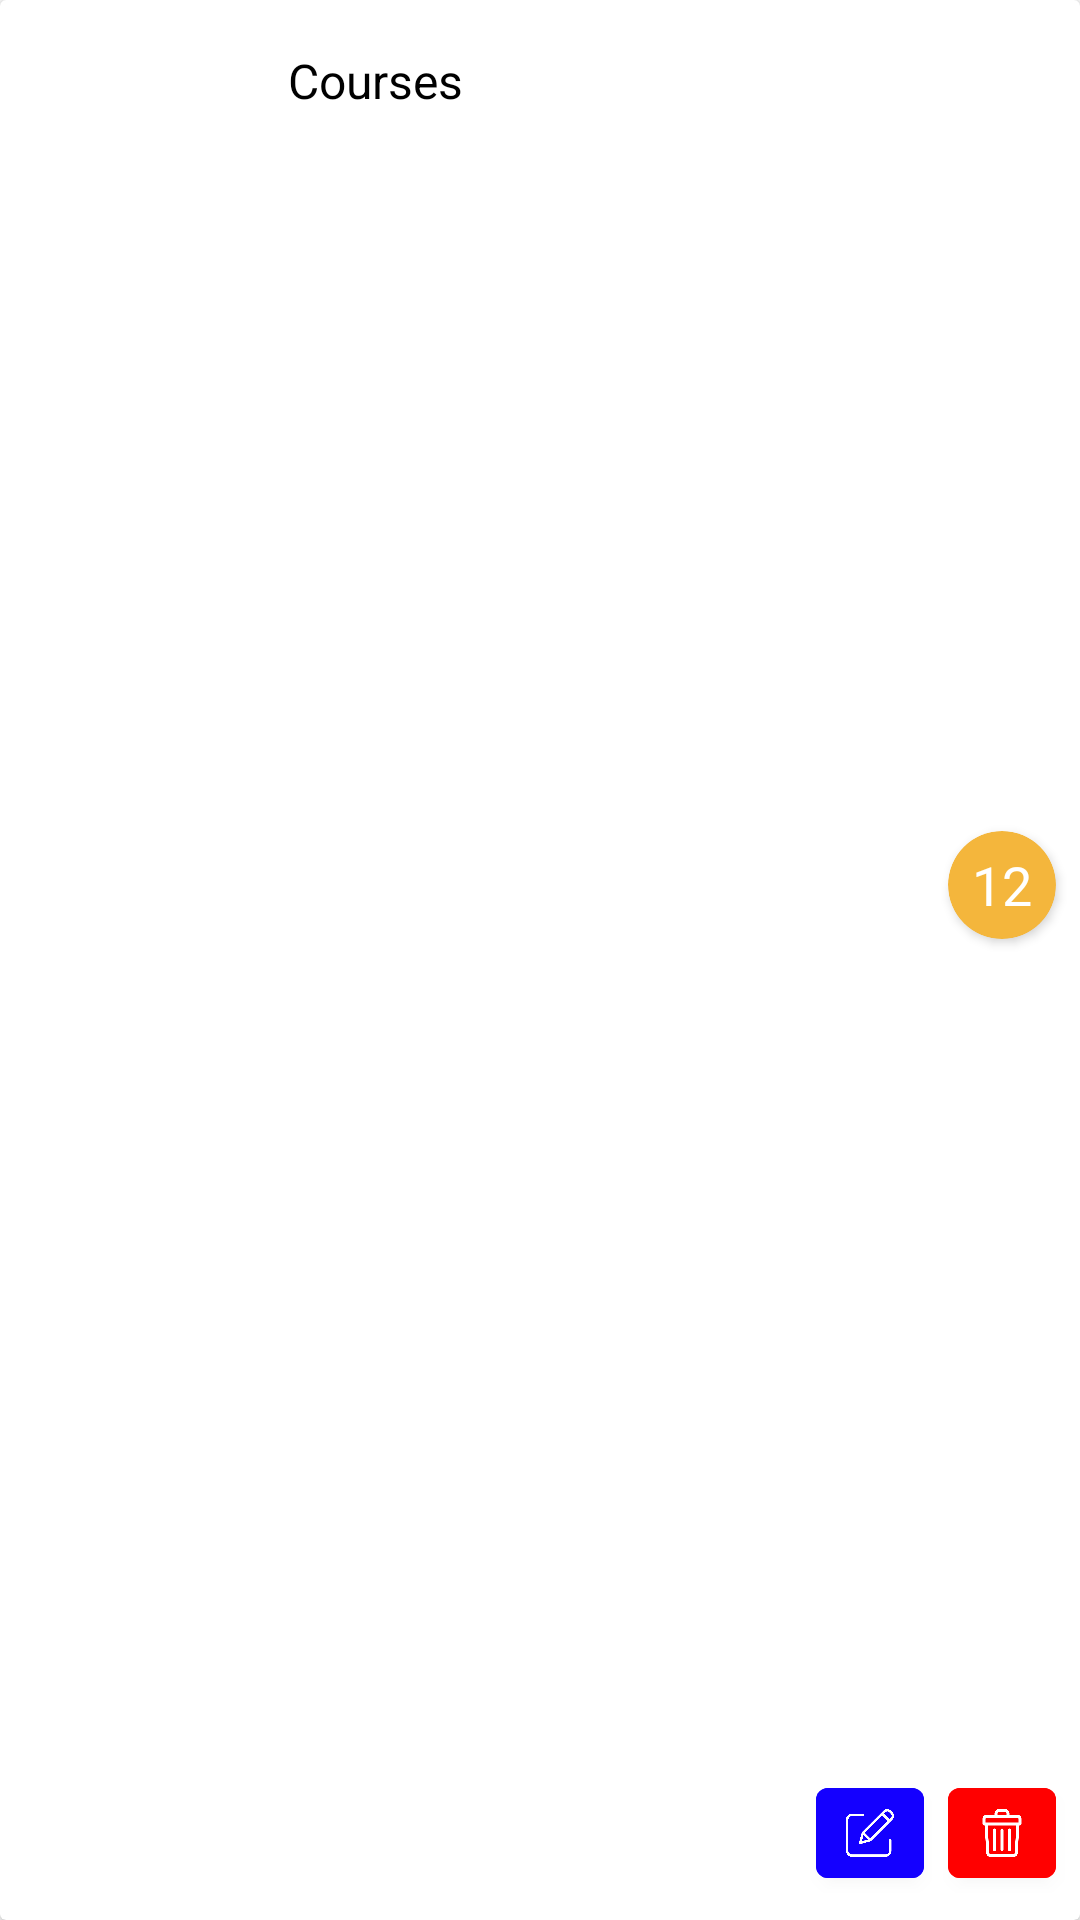

Named icons in this screenshot (1080px×1920px) and their bounding boxes, (x1, y1, x2, y2):
edit: (816, 1788, 924, 1878)
trash: (948, 1788, 1056, 1878)
